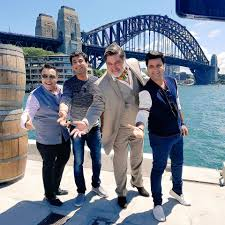Bad: (98, 43, 191, 219), (19, 50, 90, 113), (64, 42, 146, 93)
